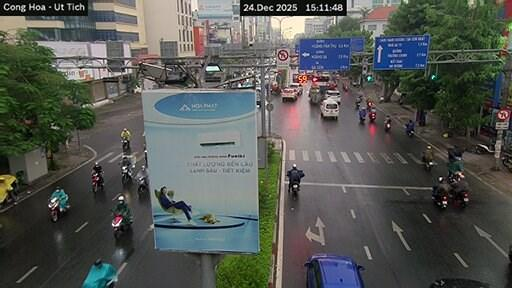motorbike: (82, 263, 116, 287), (0, 174, 18, 206), (48, 197, 68, 222), (111, 214, 130, 238), (474, 138, 495, 154), (91, 173, 104, 193), (432, 193, 447, 208), (453, 191, 468, 206), (137, 177, 148, 196), (121, 166, 132, 184), (502, 152, 511, 171), (423, 157, 433, 170), (121, 137, 129, 151), (291, 181, 299, 194), (369, 111, 377, 123), (405, 127, 414, 136), (367, 101, 373, 112), (384, 121, 390, 131), (508, 244, 511, 262), (359, 116, 365, 123), (355, 101, 360, 109)
